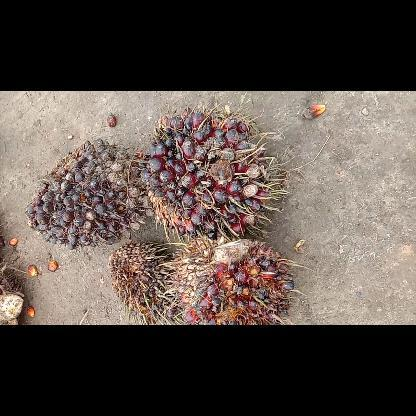Kurang masak: (140, 107, 276, 241), (26, 140, 148, 244)
TBS abnormal: (108, 246, 176, 324)
TBS masak: (171, 240, 295, 324)
